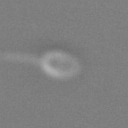normal: (1, 45, 39, 70)
